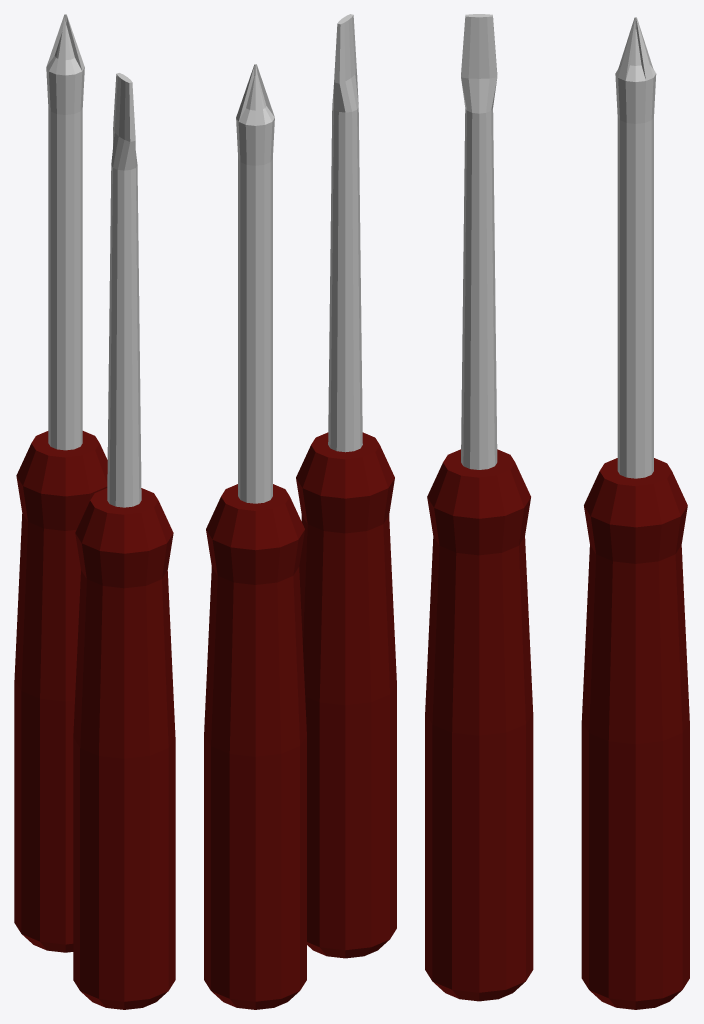
Rendered from Screwdriver.fbx.
3 views of the same model, side by side, from view 1: azimuth 30°, elevation 25°; view 2: azimuth 150°, elevation 25°; view 3: azimuth 270°, elevation 25° (orthographic). The views are drawn at different scales.
Parts seen in each view (by area): view 1: Cylinder.001, Cylinder; view 2: Cylinder, Cylinder.001; view 3: Cylinder, Cylinder.001.
Boxes of the visible parts, left/top/right/bottom form: Cylinder.001: left=73, top=73, right=175, bottom=1009; Cylinder: left=14, top=14, right=107, bottom=952; Cylinder: left=204, top=64, right=306, bottom=1009; Cylinder.001: left=296, top=14, right=396, bottom=958; Cylinder: left=581, top=17, right=689, bottom=1009; Cylinder.001: left=425, top=14, right=533, bottom=1001.
Size of the model in its own units: 240 by 2036 by 501.
